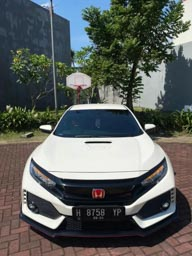plat: (73, 206, 125, 216)
